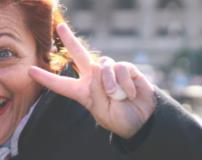front: (27, 18, 154, 132)
